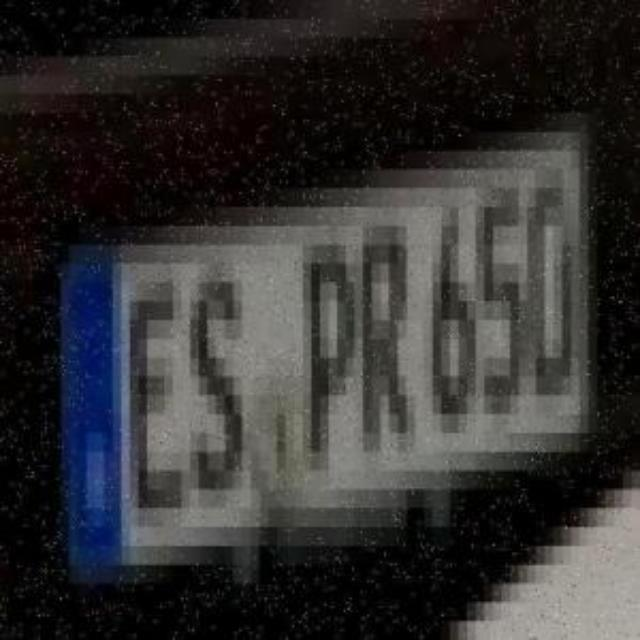License Plate: (44, 128, 602, 620)
